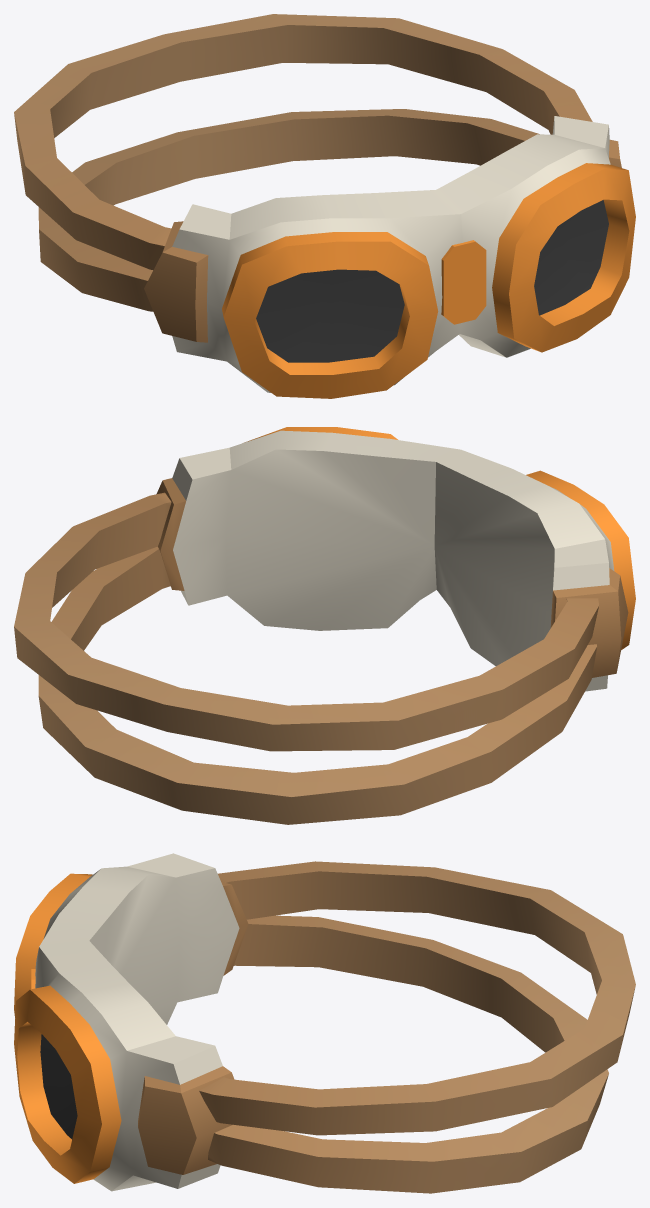
The model's file is Eyewear_16.fbx.
3 views of the same model, one above another, from view 1: azimuth 30°, elevation 25°; view 2: azimuth 150°, elevation 25°; view 3: azimuth 270°, elevation 25° (orthographic).
Parts seen in each view (by area): view 1: Eyewear_16; view 2: Eyewear_16; view 3: Eyewear_16.
Part boxes in pixels (<box>): Eyewear_16: <box>14,14,635,398</box>; Eyewear_16: <box>14,427,635,824</box>; Eyewear_16: <box>14,853,635,1193</box>.
Size of the model in its own units: 58.35 by 20.07 by 62.32.
